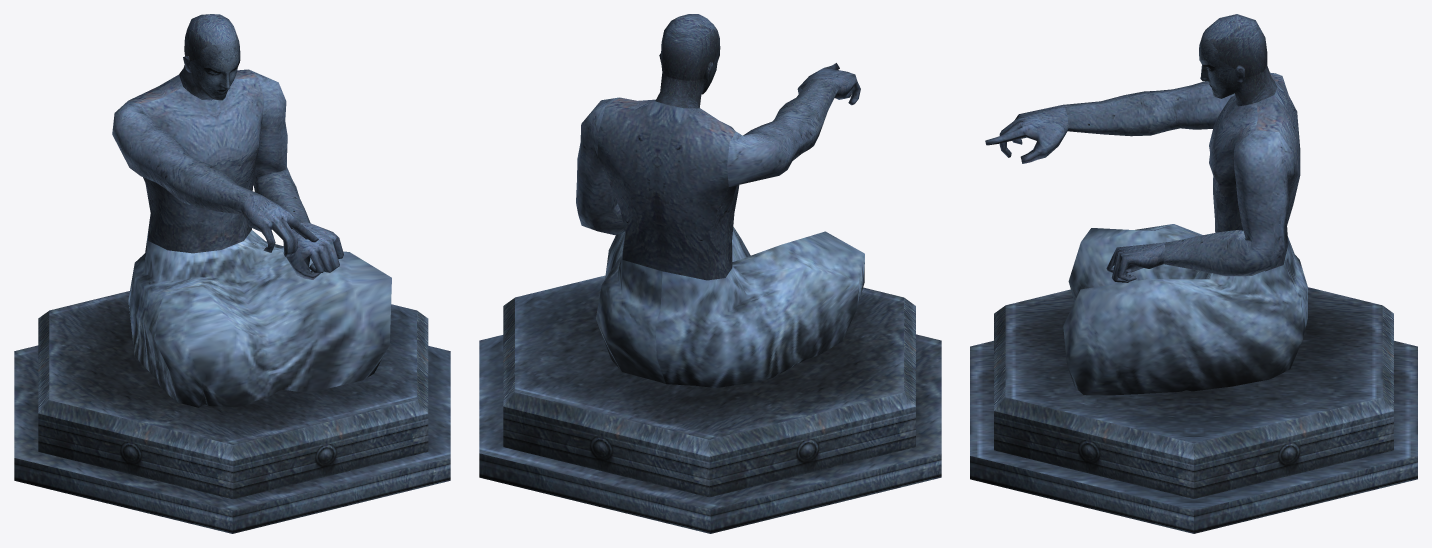
Rendered from Kunlun_sta01.FBX.
3 renders of one model, left to right at view 1: azimuth 30°, elevation 25°; view 2: azimuth 150°, elevation 25°; view 3: azimuth 270°, elevation 25°, orthographic. The views are drawn at different scales.
Visible parts, largest first — view 1: Box01; view 2: Box01; view 3: Box01.
Part boxes in pixels (x1=…): Box01: x1=14, y1=14, x2=450, y2=533; Box01: x1=479, y1=14, x2=941, y2=533; Box01: x1=970, y1=14, x2=1417, y2=533.
Size of the model in its own units: 339 by 295 by 294.
1 material, 1 textured.
